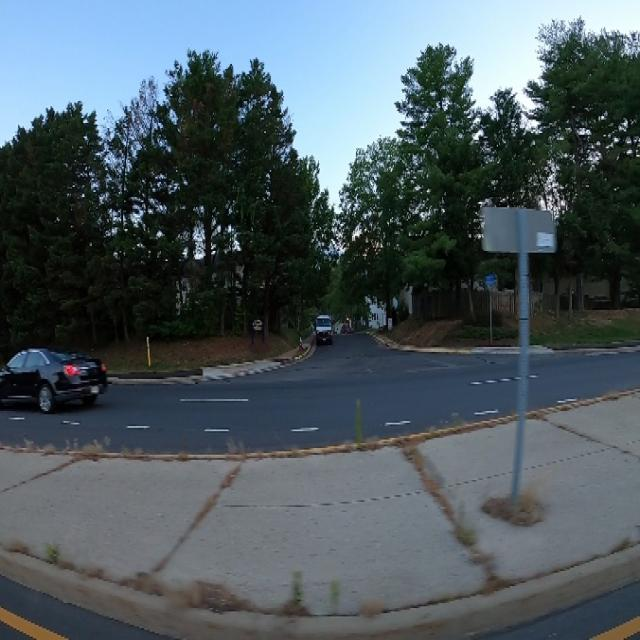car: (0, 329, 123, 425), (309, 301, 340, 359)
